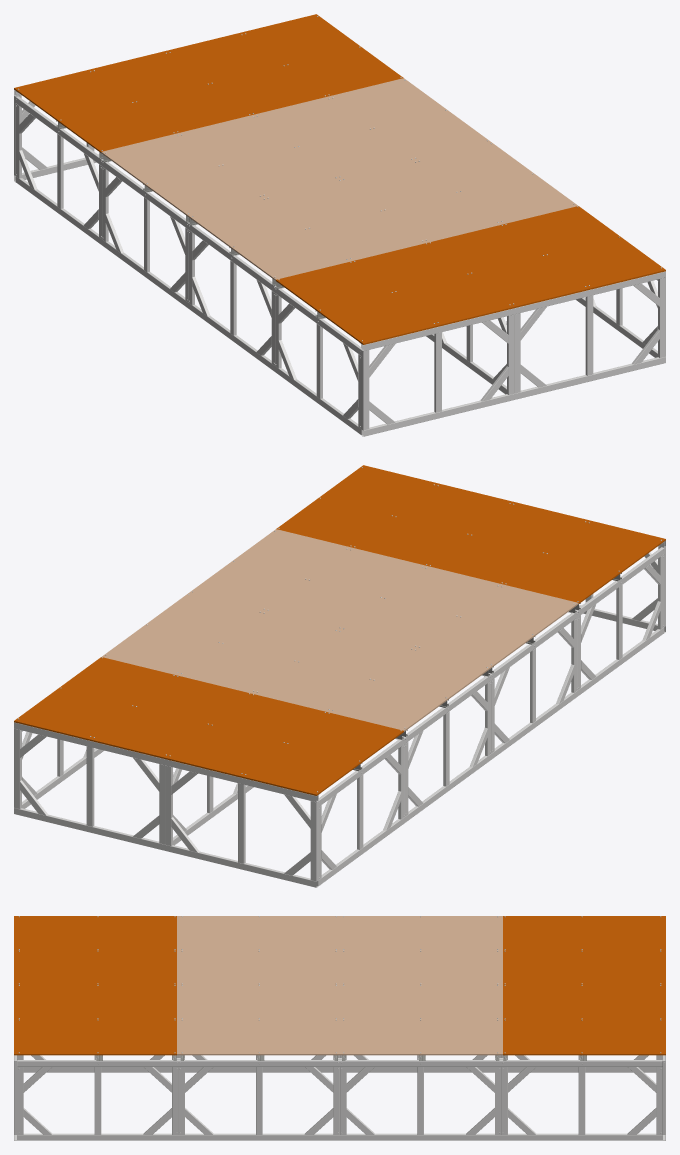
The model's file is ESCENARIO_8x4.glb.
3 renders of one model, top to bottom at view 1: azimuth 30°, elevation 25°; view 2: azimuth 150°, elevation 25°; view 3: azimuth 270°, elevation 25°, orthographic. The views are drawn at different scales.
Parts seen in each view (by area): view 1: Solid1:375, Solid1:373, Solid1:374, Solid1:372, Solid1:379, Solid1:383, Solid1:387, Solid1:377, Solid1:384, Solid1:376, Solid1:382, Solid1:385 (+20 smaller); view 2: Solid1:372, Solid1:373, Solid1:374, Solid1:375, Solid1:376, Solid1:380, Solid1:384, Solid1:378, Solid1:387, Solid1:381, Solid1:377, Solid1:379 (+20 smaller); view 3: Solid1:384, Solid1:385, Solid1:386, Solid1:387, Solid1:372, Solid1:375, Solid1:380, Solid1:383, Solid1:373, Solid1:374, Solid1:377, Solid1:378 (+28 smaller).
Boxes of the visible parts, box(x1,y1,x2,y2) form: Solid1:375: box(276, 261, 438, 344); Solid1:373: box(101, 133, 263, 216); Solid1:374: box(188, 197, 350, 280); Solid1:372: box(14, 69, 176, 152); Solid1:379: box(352, 243, 514, 326); Solid1:383: box(427, 224, 590, 307); Solid1:387: box(503, 206, 665, 289); Solid1:377: box(177, 115, 339, 197); Solid1:384: box(241, 14, 403, 96); Solid1:376: box(90, 51, 251, 133); Solid1:382: box(340, 160, 502, 242); Solid1:385: box(328, 78, 490, 160); Solid1:372: box(241, 712, 403, 795); Solid1:373: box(329, 648, 491, 731); Solid1:374: box(416, 584, 578, 667); Solid1:375: box(503, 520, 665, 603); Solid1:376: box(165, 694, 327, 777); Solid1:380: box(89, 675, 252, 758); Solid1:384: box(14, 657, 176, 740); Solid1:378: box(340, 566, 502, 648); Solid1:387: box(276, 465, 438, 547); Solid1:381: box(177, 611, 339, 693); Solid1:377: box(253, 630, 414, 712); Solid1:379: box(428, 502, 589, 584); Solid1:384: box(503, 1019, 665, 1055); Solid1:385: box(340, 1019, 502, 1055); Solid1:386: box(177, 1019, 339, 1055); Solid1:387: box(14, 1019, 176, 1055); Solid1:372: box(503, 916, 665, 950); Solid1:375: box(14, 916, 176, 950); Solid1:380: box(503, 985, 665, 1019); Solid1:383: box(14, 985, 176, 1019); Solid1:373: box(340, 916, 502, 950); Solid1:374: box(177, 916, 339, 950); Solid1:377: box(340, 950, 502, 984); Solid1:378: box(177, 950, 339, 984).
Bounding box in the file's own units: 4.01 × 1.18 × 8.
